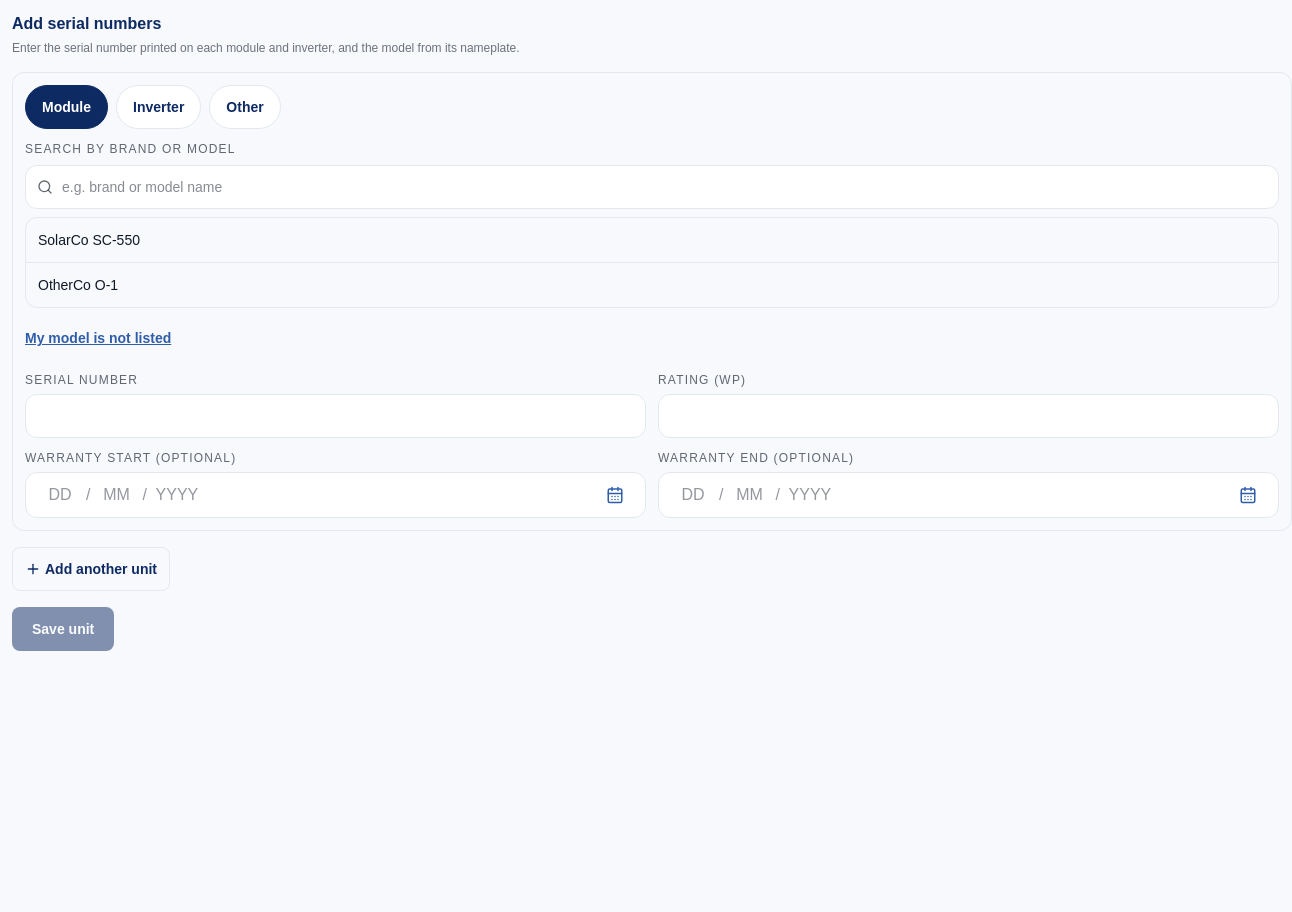
Scenario: RegisterEntry — "My model is not listed" › requires both printed fields and a module DCR declaration — and nothing else
This screenshot has width=1292, height=912.
Step 1. Click the button "My model is not listed" → (98, 338), box [25, 316, 171, 360]
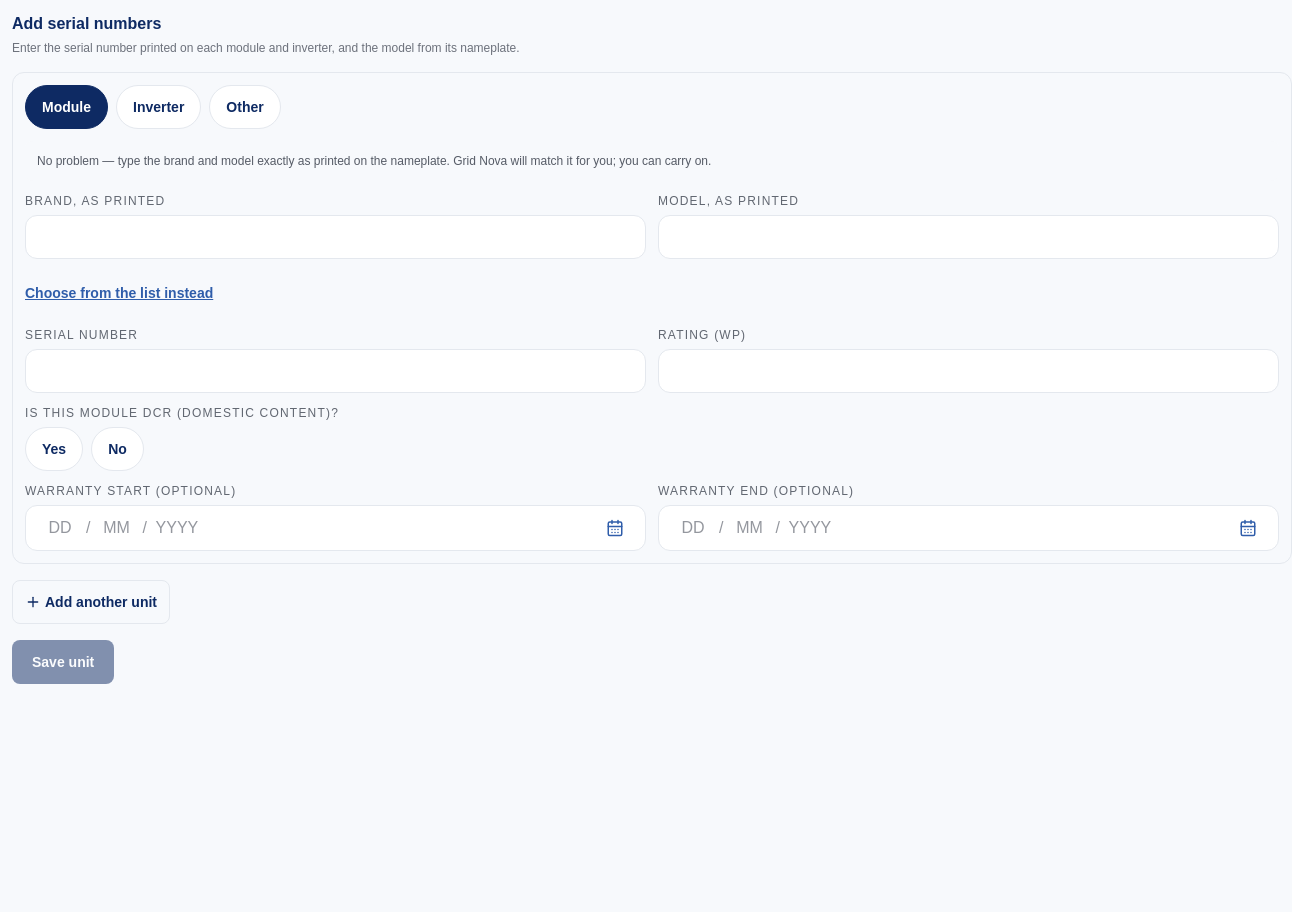
Step 2. Type "SN-9" into the field labelled "Serial number" → (336, 371), box [25, 349, 646, 393]
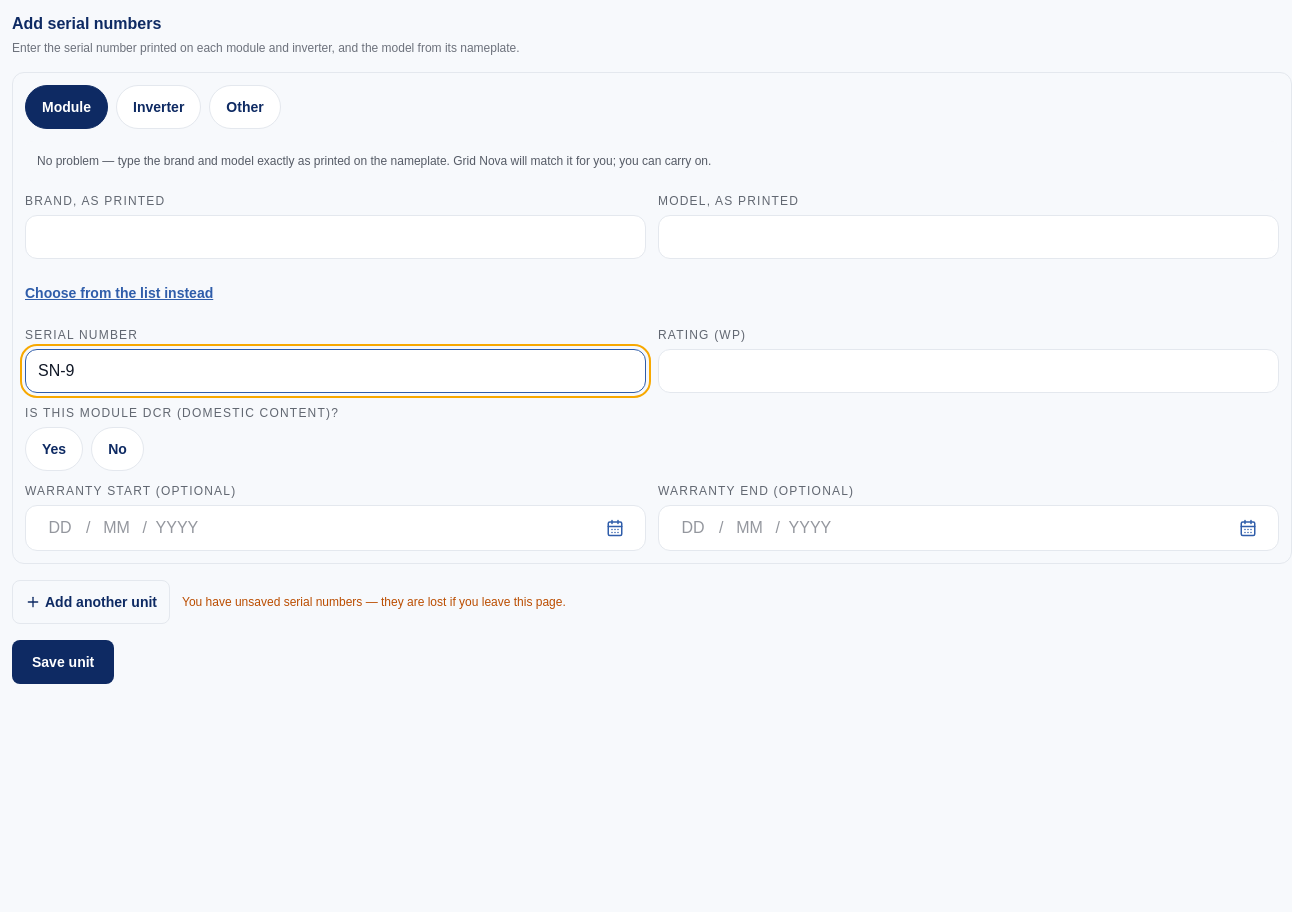
Step 3. Type "540" into the field labelled "Rating (Wp)" → (968, 371), box [658, 349, 1279, 393]
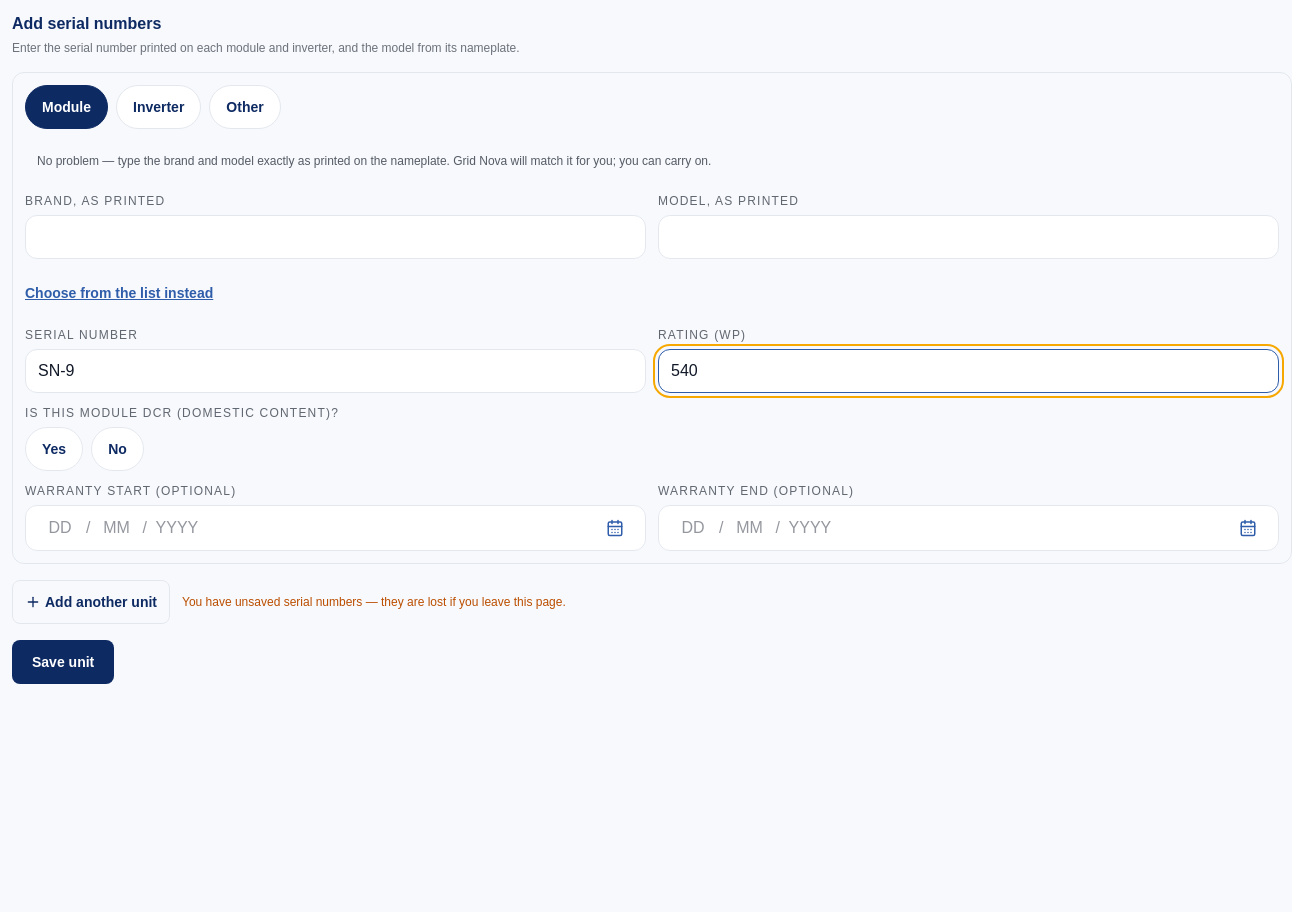
Step 4. Click the button "Save unit" → (63, 662), box [12, 640, 114, 684]
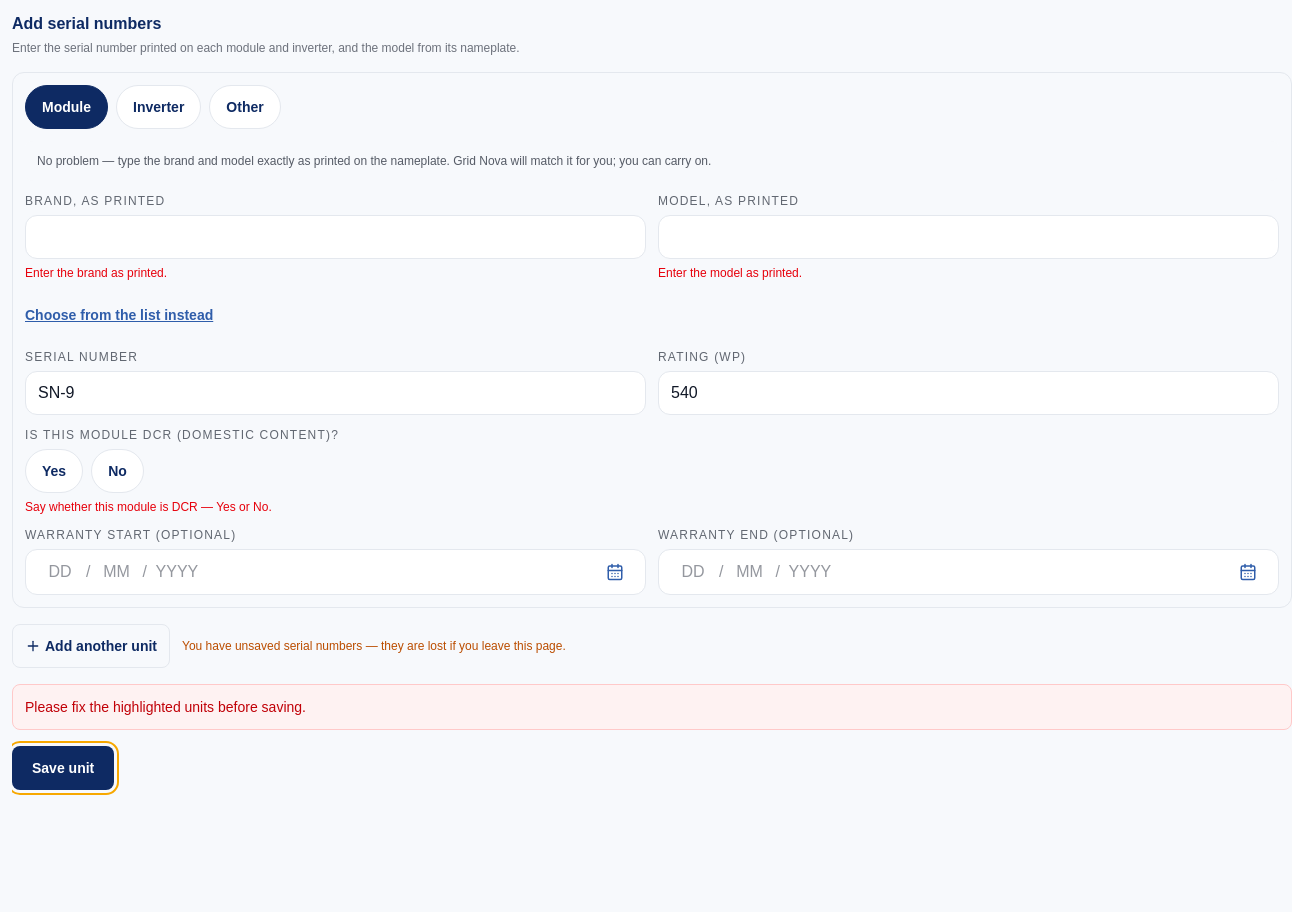
Now the text "Enter the brand as printed." is shown, box [25, 266, 167, 280]
Now the text "Enter the model as printed." is shown, box [658, 266, 802, 280]
Now the text "Say whether this module is DCR — Yes or No." is shown, box [25, 500, 272, 514]
